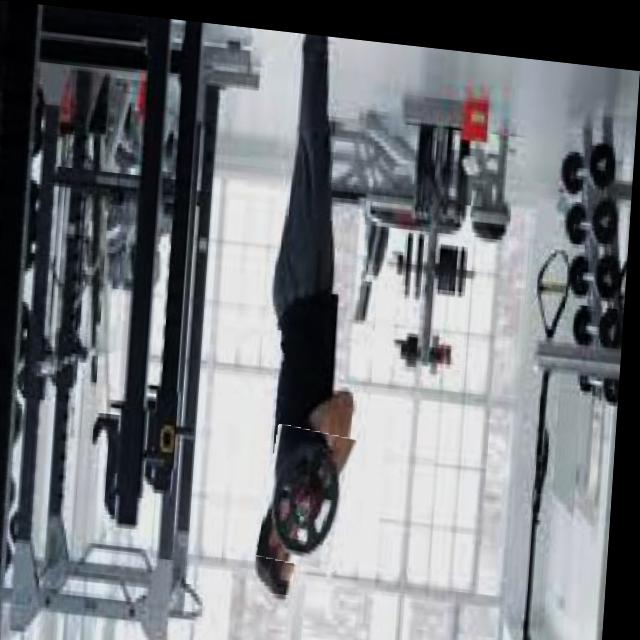barbell: (268, 418, 361, 563)
